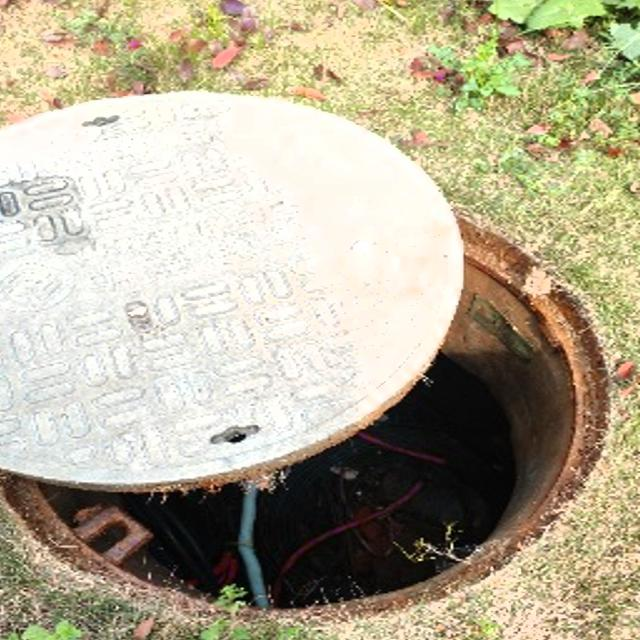uncovered: (0, 86, 614, 622)
